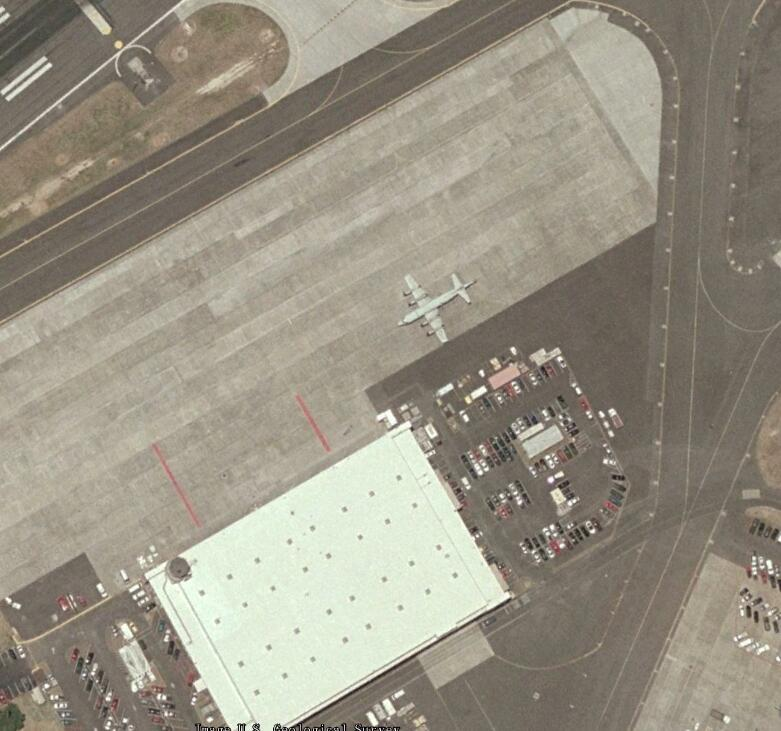A9: (396, 274, 482, 345)
